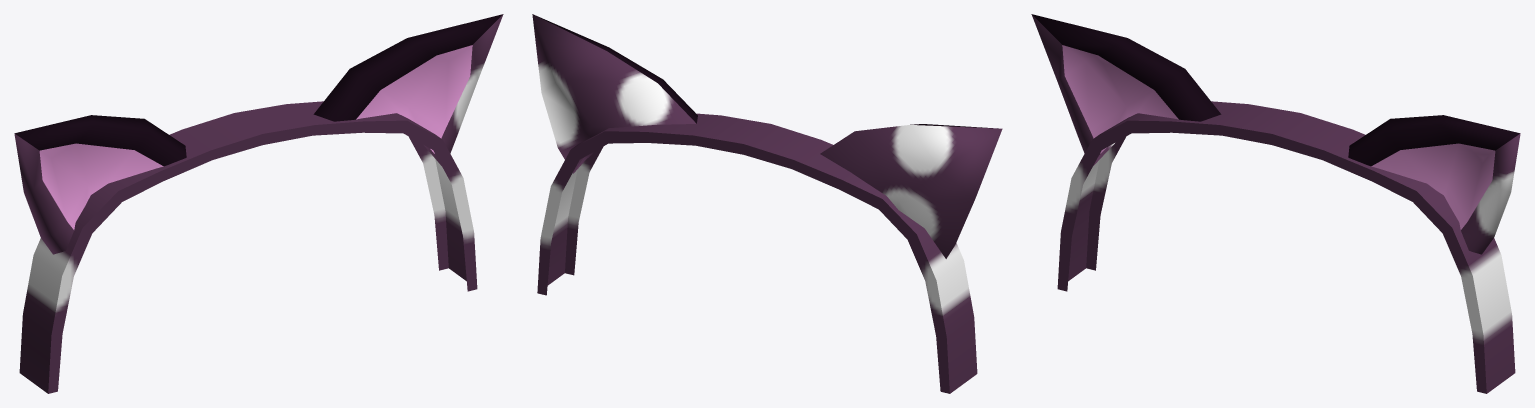
The model's file is top_acc_19.FBX.
3 renders of one model, left to right at view 1: azimuth 30°, elevation 25°; view 2: azimuth 150°, elevation 25°; view 3: azimuth 330°, elevation 25°, orthographic. The views are drawn at different scales.
Parts seen in each view (by area): view 1: top_acc_19; view 2: top_acc_19; view 3: top_acc_19.
Part boxes in pixels (x1,y1,x2,y2): top_acc_19: [14, 14, 503, 393]; top_acc_19: [532, 14, 1002, 393]; top_acc_19: [1031, 14, 1520, 393].
Bounding box in the file's own units: 30.52 × 15.8 × 3.09.
